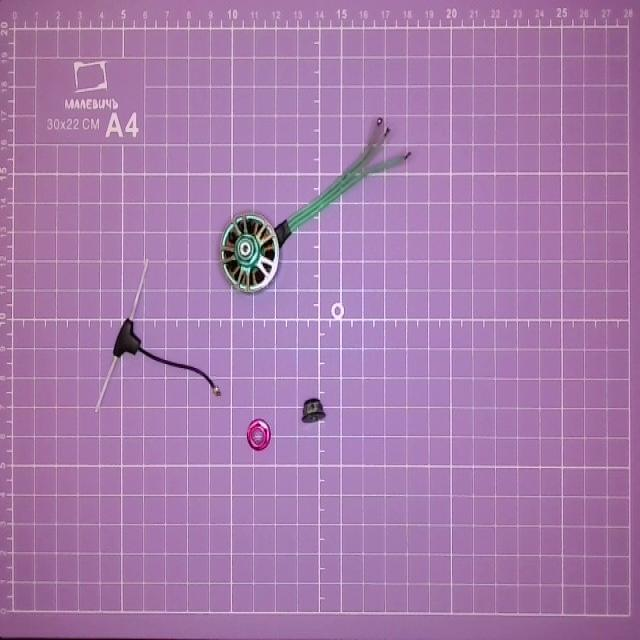antenna: (91, 262, 222, 425)
motor: (220, 115, 415, 294)
screw_M3: (325, 294, 349, 328)
screw_M5: (244, 414, 276, 456), (299, 392, 328, 429)
